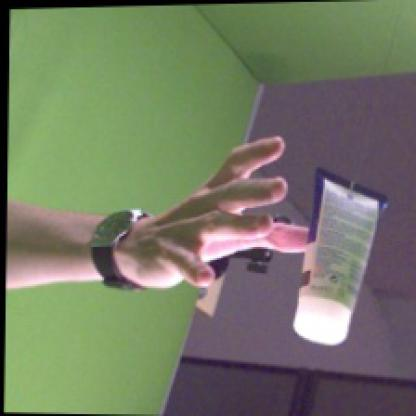Hand: (123, 136, 317, 289)
